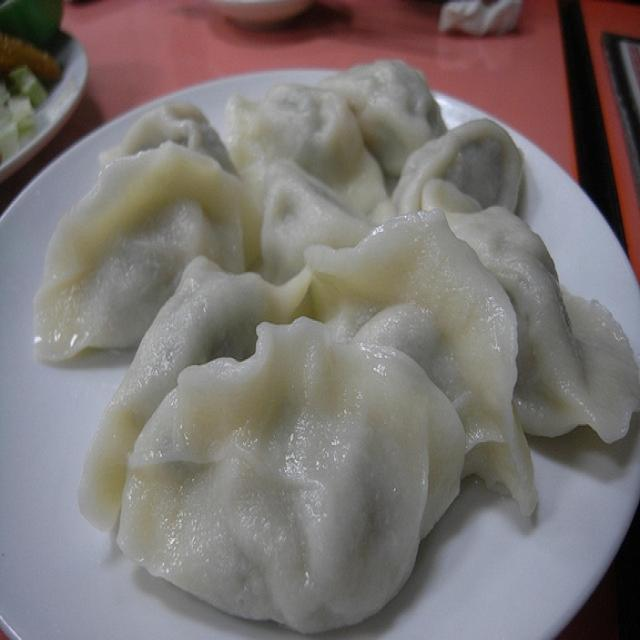带馅早点: (25, 53, 628, 618)
